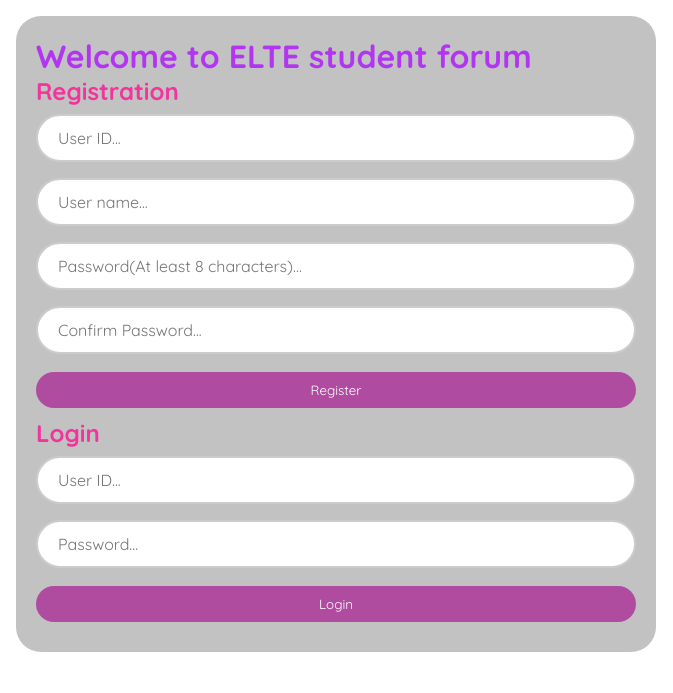
Test: LoginReg › logs in successfully with valid inputs
The width and height of the screenshot is (673, 693).
Type "123" into the field with test id "userid-login". click: {"x": 336, "y": 480}
box: [36, 456, 636, 504]
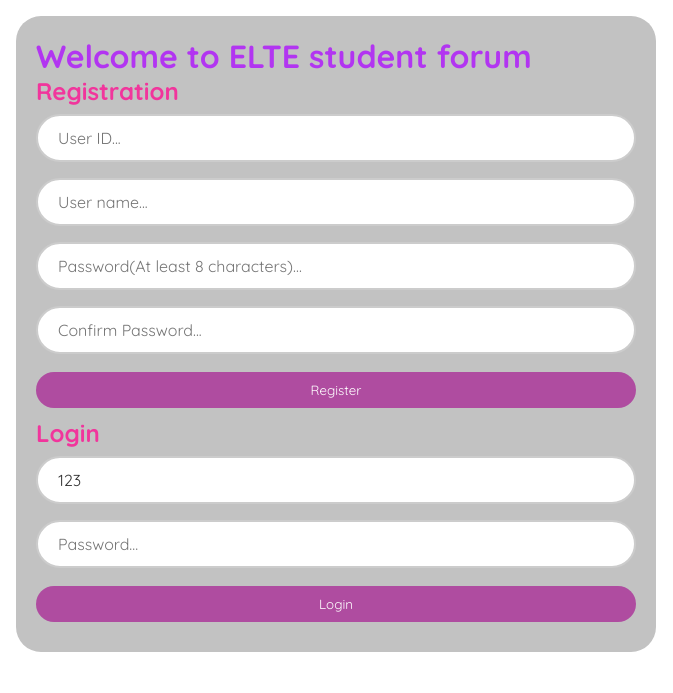
Type "password" into the password field with test id "userpwd-login". click: {"x": 336, "y": 544}
box: [36, 520, 636, 568]
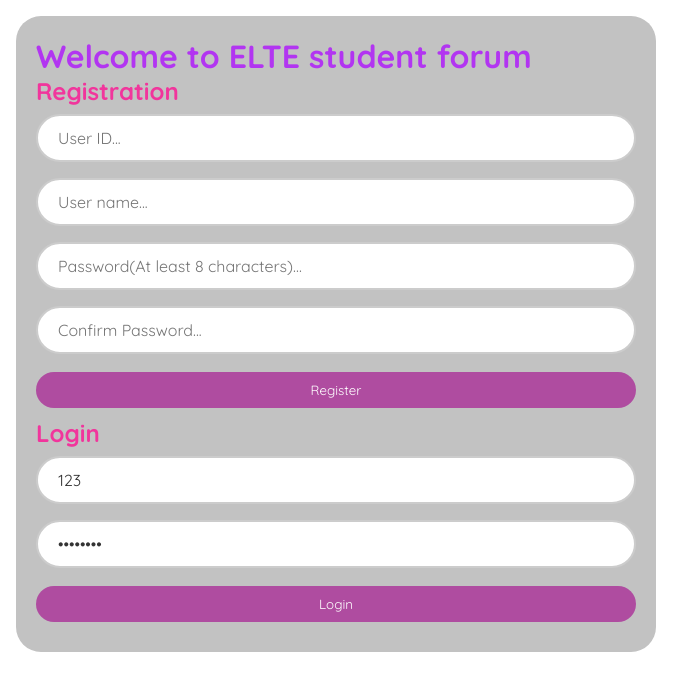
Click the button with test id "login-button". click: {"x": 336, "y": 604}
box: [36, 586, 636, 622]
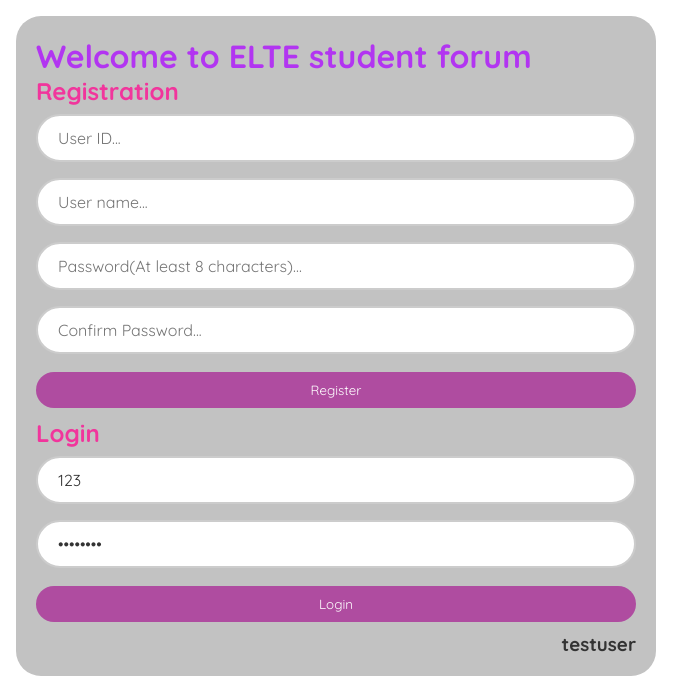
Expected: the heading "testuser" is shown, [562, 632, 636, 656]
